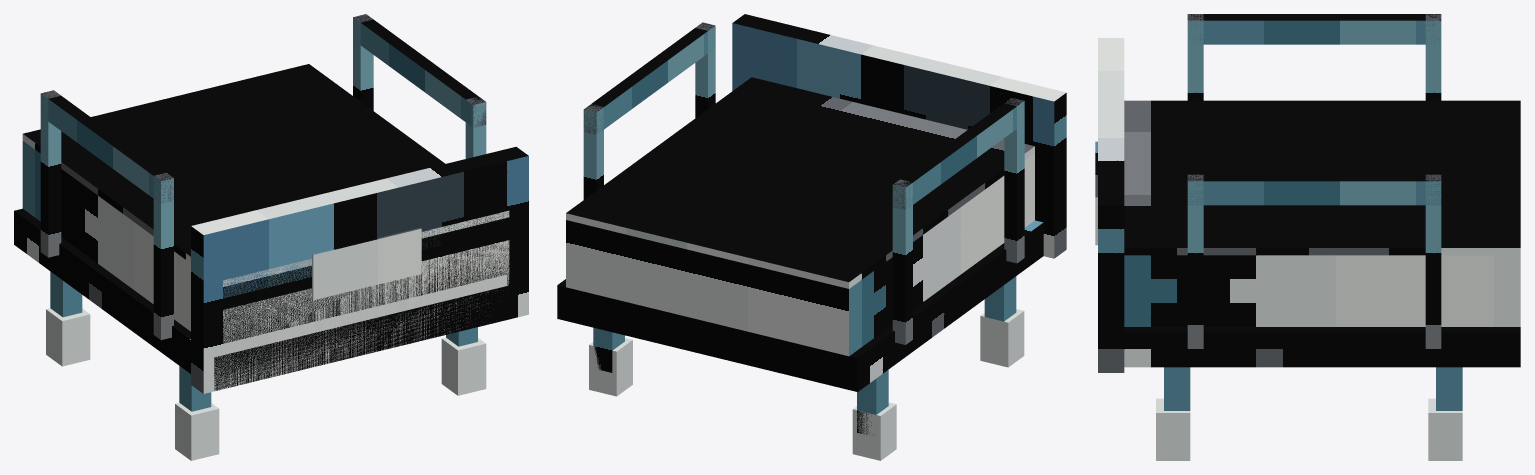
The model's file is lab_medical_bed.obj.
3 views of the same model, side by side, from view 1: azimuth 30°, elevation 25°; view 2: azimuth 150°, elevation 25°; view 3: azimuth 270°, elevation 25° (orthographic). The views are drawn at different scales.
Size of the model in its own units: 0.9375 by 0.75 by 1.01.
